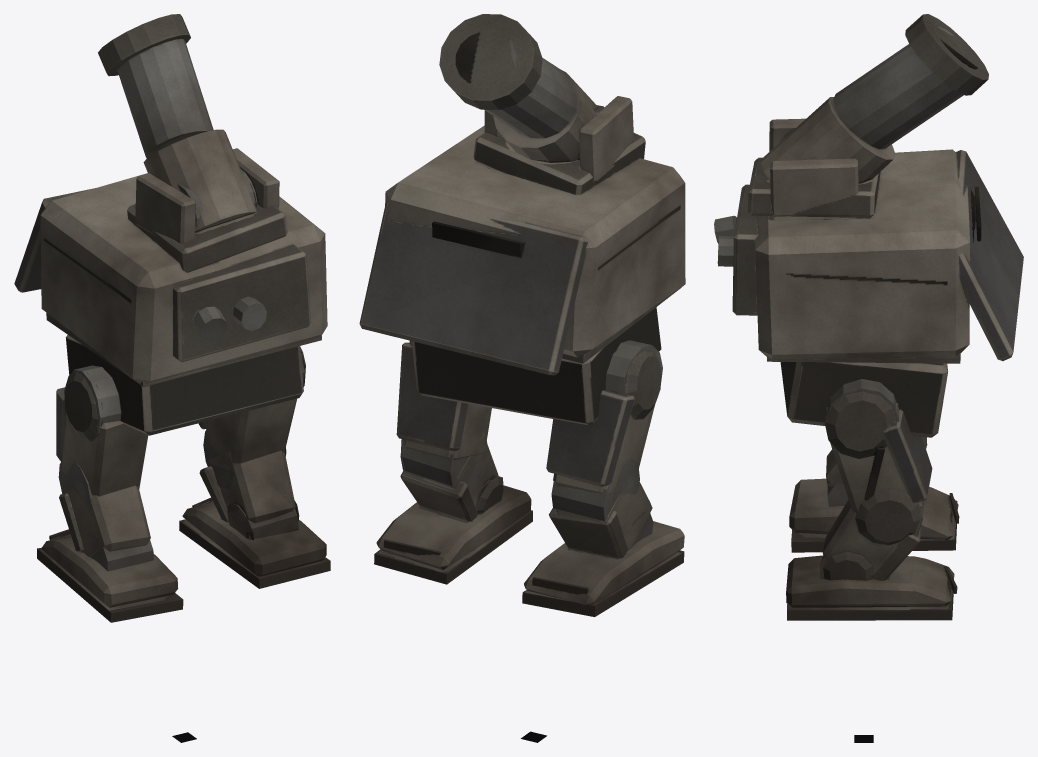
File: ord_culverin_wreck.fbx
3 renders of one model, left to right at view 1: azimuth 30°, elevation 25°; view 2: azimuth 150°, elevation 25°; view 3: azimuth 270°, elevation 25°, orthographic. The views are drawn at different scales.
Visible parts, largest first — view 1: torso_bar, barrel_bar, base_bar, thighL_bar, footL_bar, footR_bar, shinR_bar, shinL_bar, thighR_bar; view 2: torso_bar, barrel_bar, thighL_bar, base_bar, footR_bar, footL_bar, thighR_bar, shinL_bar, shinR_bar; view 3: torso_bar, barrel_bar, thighR_bar, footR_bar, base_bar, footL_bar, shinR_bar, shinL_bar.
Boxes of the visible parts, x1,y1,x2,y2 form: torso_bar: (14,148,327,387); barrel_bar: (98,14,257,232); base_bar: (65,335,303,435); thighL_bar: (56,365,148,509); footL_bar: (37,529,183,622); footR_bar: (179,497,330,588); shinR_bar: (199,450,299,539); shinL_bar: (59,485,153,571); thighR_bar: (198,347,305,488); torso_bar: (359,96,685,375); barrel_bar: (439,14,604,162); thighL_bar: (546,340,662,521); base_bar: (412,307,661,425); footR_bar: (374,485,532,584); footL_bar: (522,521,684,616); thighR_bar: (396,340,491,489); shinL_bar: (549,482,653,558); shinR_bar: (400,434,503,521); torso_bar: (714,118,1023,363); barrel_bar: (761,14,988,183); thighR_bar: (824,379,932,546); footR_bar: (786,555,957,620); base_bar: (780,361,948,437); footL_bar: (789,478,959,552); shinR_bar: (820,499,921,580); shinL_bar: (826,449,848,506).
Bounding box in the file's own units: 272 × 827 × 322.
2 materials, 2 textured.
